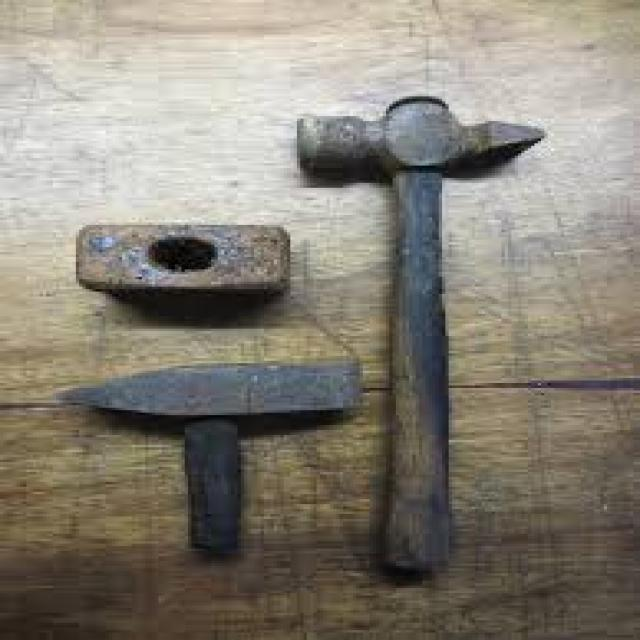hammer: (290, 85, 554, 587), (42, 347, 370, 560)
